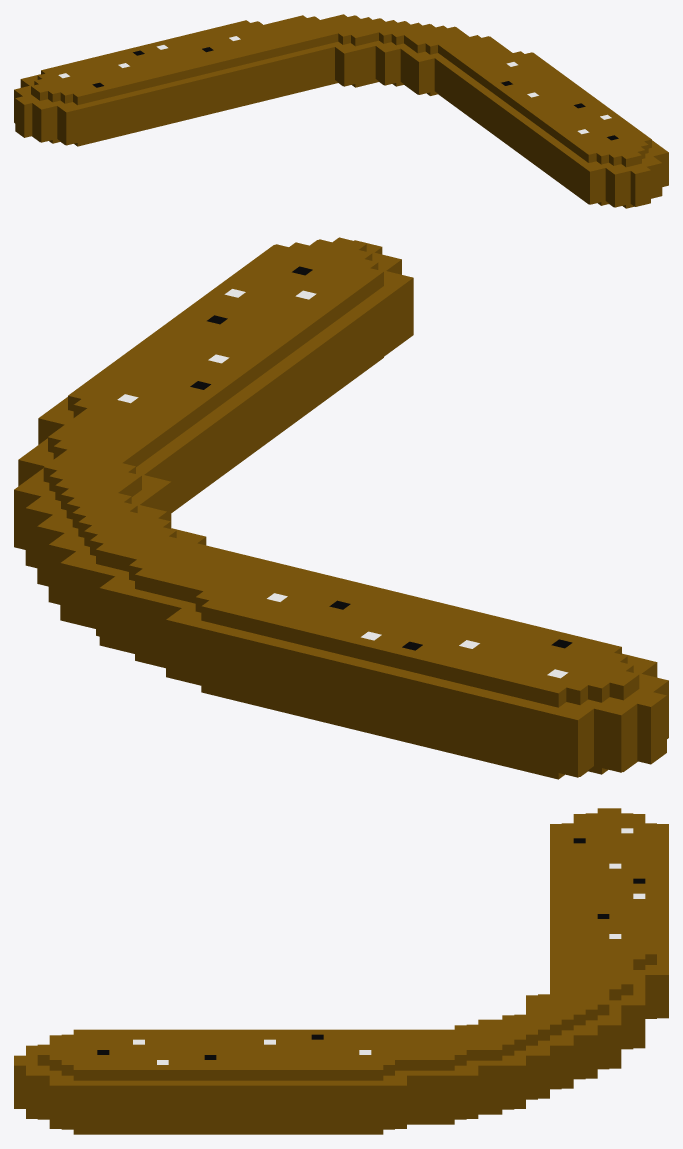
The model's file is Boomerang.obj.
The picture shows the model from 3 angles, top to bottom: view 1: azimuth 30°, elevation 25°; view 2: azimuth 150°, elevation 25°; view 3: azimuth 270°, elevation 25°; orthographic projection. The views are drawn at different scales.
Bounding box in the file's own units: 5.5 × 0.6 × 5.5.
1 material, 1 textured.
